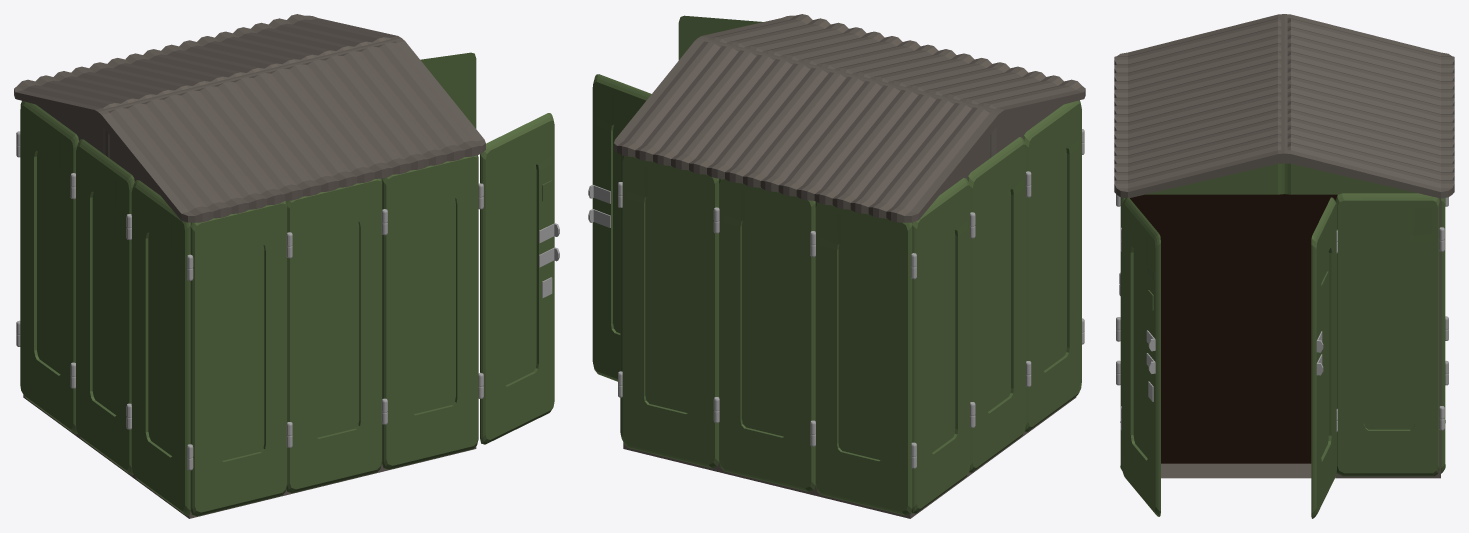
Rendered from Gar_ash.fbx.
The picture shows the model from 3 angles, left to right: view 1: azimuth 30°, elevation 25°; view 2: azimuth 150°, elevation 25°; view 3: azimuth 270°, elevation 25°; orthographic projection. The views are drawn at different scales.
Parts seen in each view (by area): view 1: Плоскость.003, Куб, Плоскость, Окружность.011, Плоскость.001; view 2: Плоскость.003, Куб, Плоскость.001, Окружность.011, Плоскость; view 3: Куб, Плоскость.003, Плоскость, Плоскость.001, Окружность.011.
Part boxes in pixels (x1,y1,x2,y2): Плоскость.003: (20,101,478,516); Куб: (14,14,485,518); Плоскость: (480,113,559,444); Окружность.011: (16,131,483,470); Плоскость.001: (420,52,476,128); Плоскость.003: (620,100,1081,515); Куб: (613,14,1085,518); Плоскость.001: (588,74,651,381); Окружность.011: (618,129,1084,468); Плоскость: (678,15,762,60); Куб: (1114,14,1454,478); Плоскость.003: (1120,193,1445,476); Плоскость: (1122,197,1160,516); Плоскость.001: (1311,197,1336,518); Окружность.011: (1116,194,1448,431).
Bounding box in the file's own units: 274 × 233 × 218.
